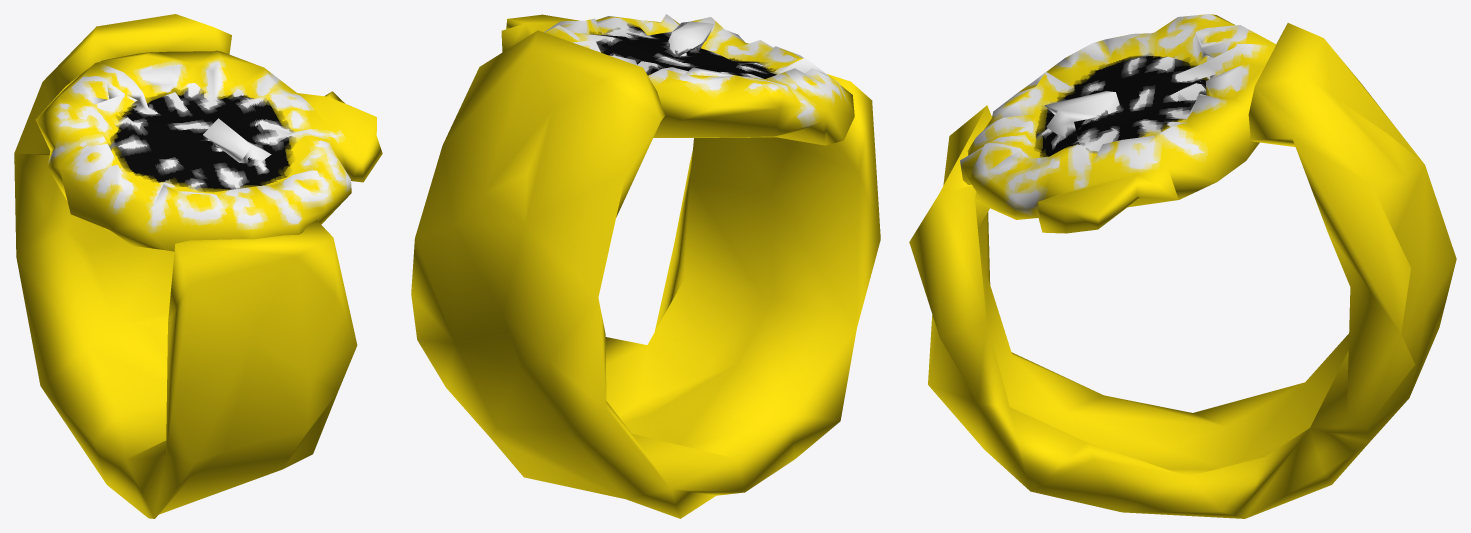
File: oyster gold.glb
The picture shows the model from 3 angles, left to right: view 1: azimuth 30°, elevation 25°; view 2: azimuth 150°, elevation 25°; view 3: azimuth 270°, elevation 25°; orthographic projection. The views are drawn at different scales.
Visible parts, largest first — view 1: watch_oyster_gold.001; view 2: watch_oyster_gold.001; view 3: watch_oyster_gold.001.
Part boxes in pixels (x1,y1,x2,y2): watch_oyster_gold.001: (14, 14, 382, 518); watch_oyster_gold.001: (411, 14, 880, 518); watch_oyster_gold.001: (909, 14, 1456, 518).
Size of the model in its own units: 0.0373 by 0.0487 by 0.0513.
Materials: 2 (2 with a texture image).
